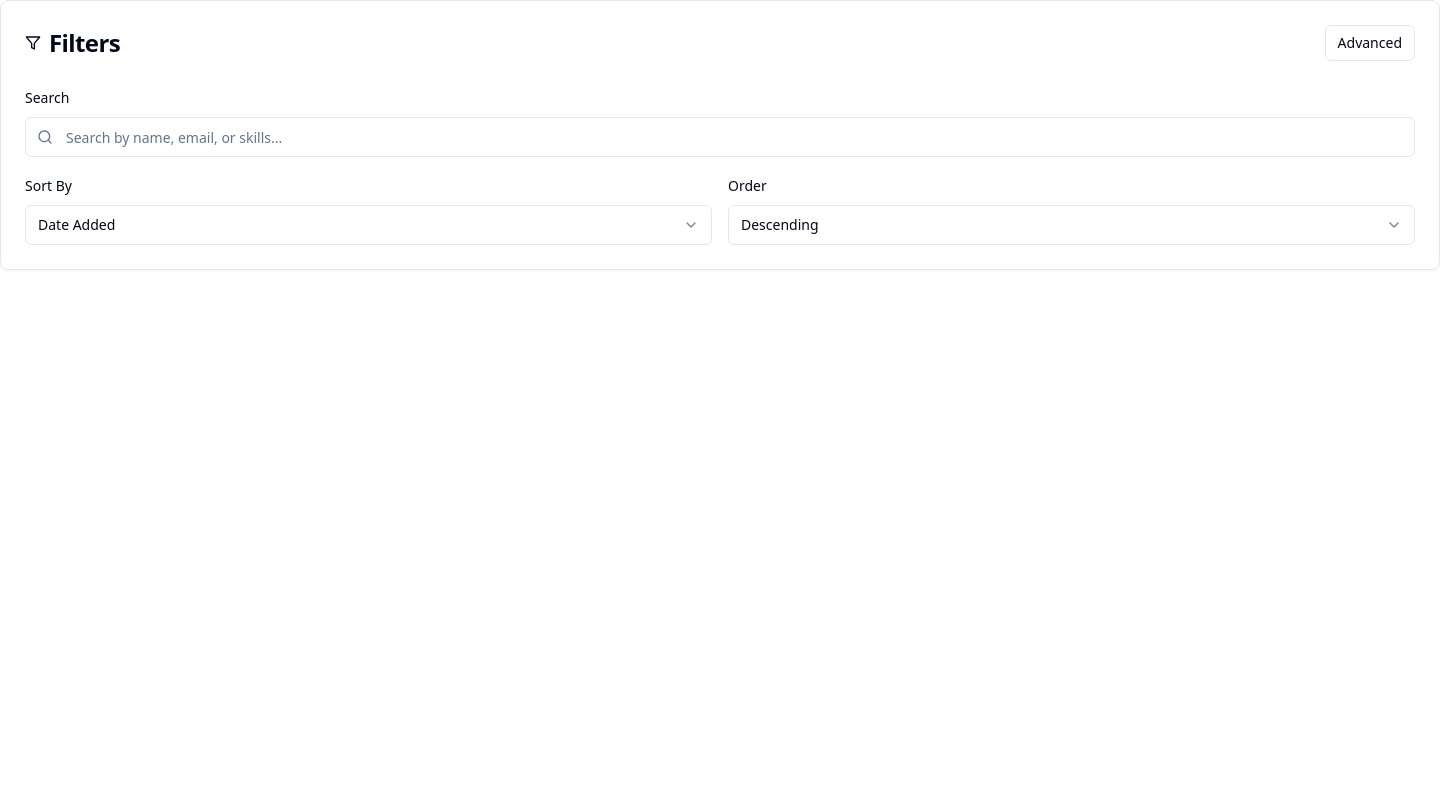
Test case: CandidateFilters › adds and removes skills
This screenshot has width=1440, height=810.
// Show advanced filters
Click the button "Advanced".
click(1370, 43)  # box 1325,25 -> 1415,61
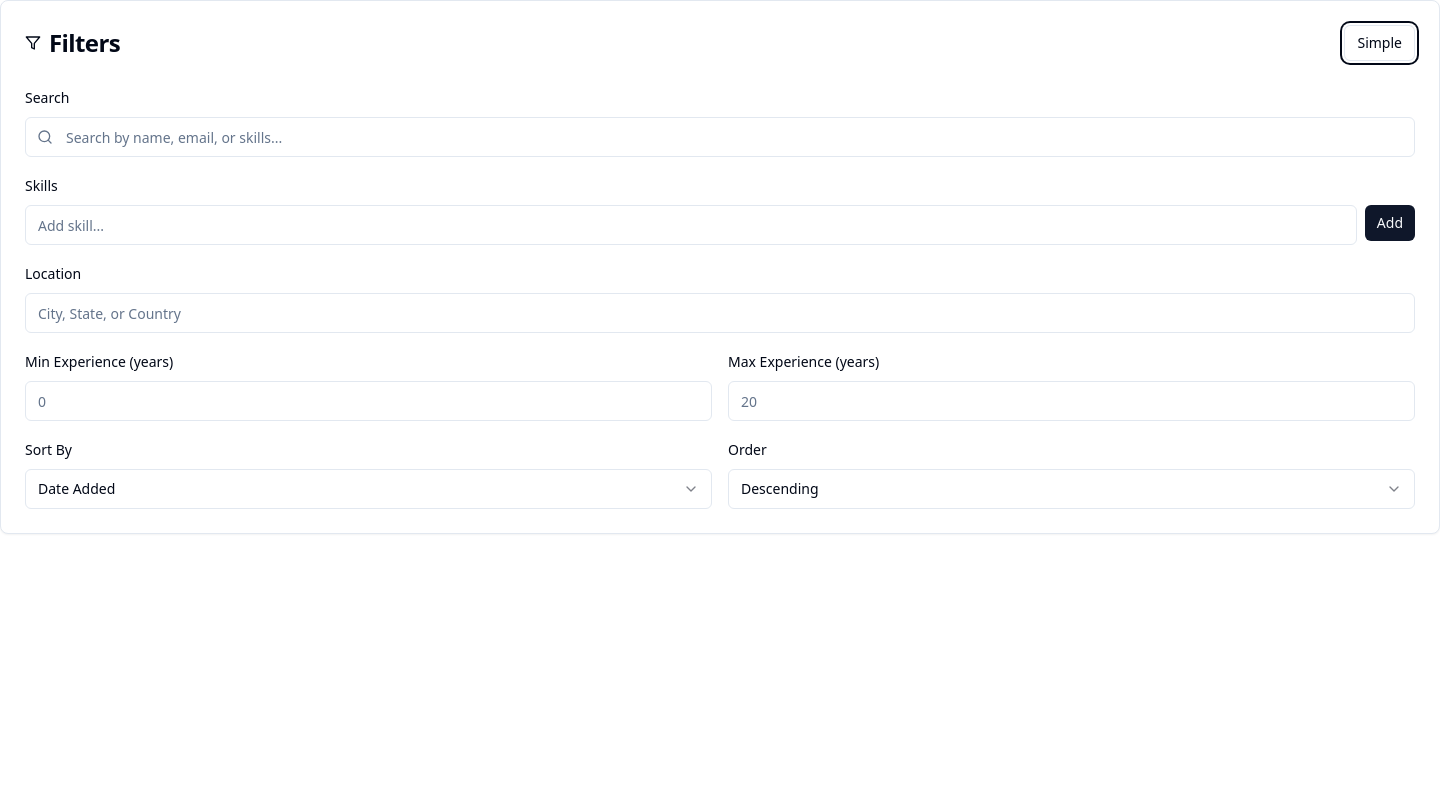
// Add a skill
Type "JavaScript" into the field with placeholder "Add skill...".
click(691, 225); type("JavaScript")  # box 25,205 -> 1357,245
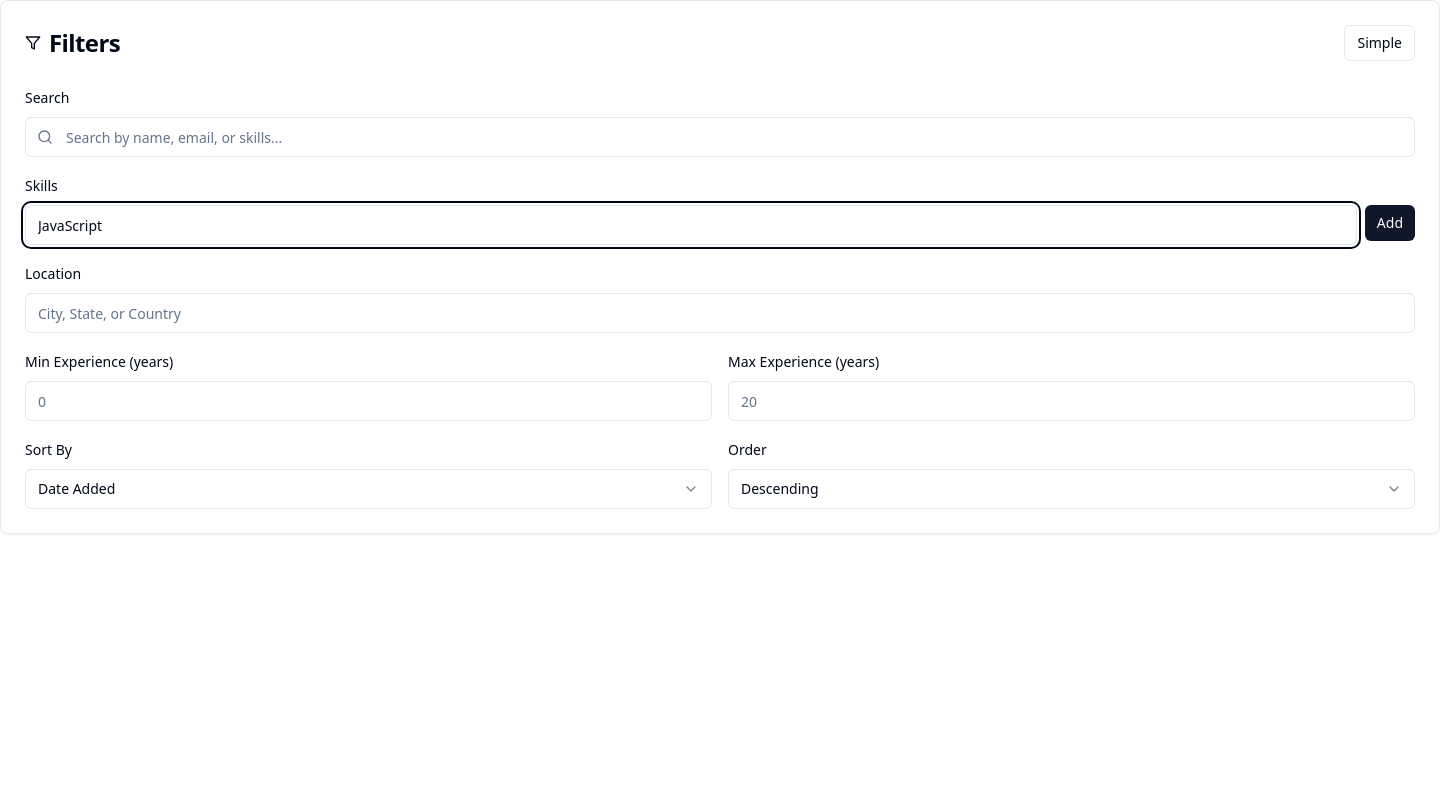
Click the button "Add".
click(1390, 223)  # box 1365,205 -> 1415,241
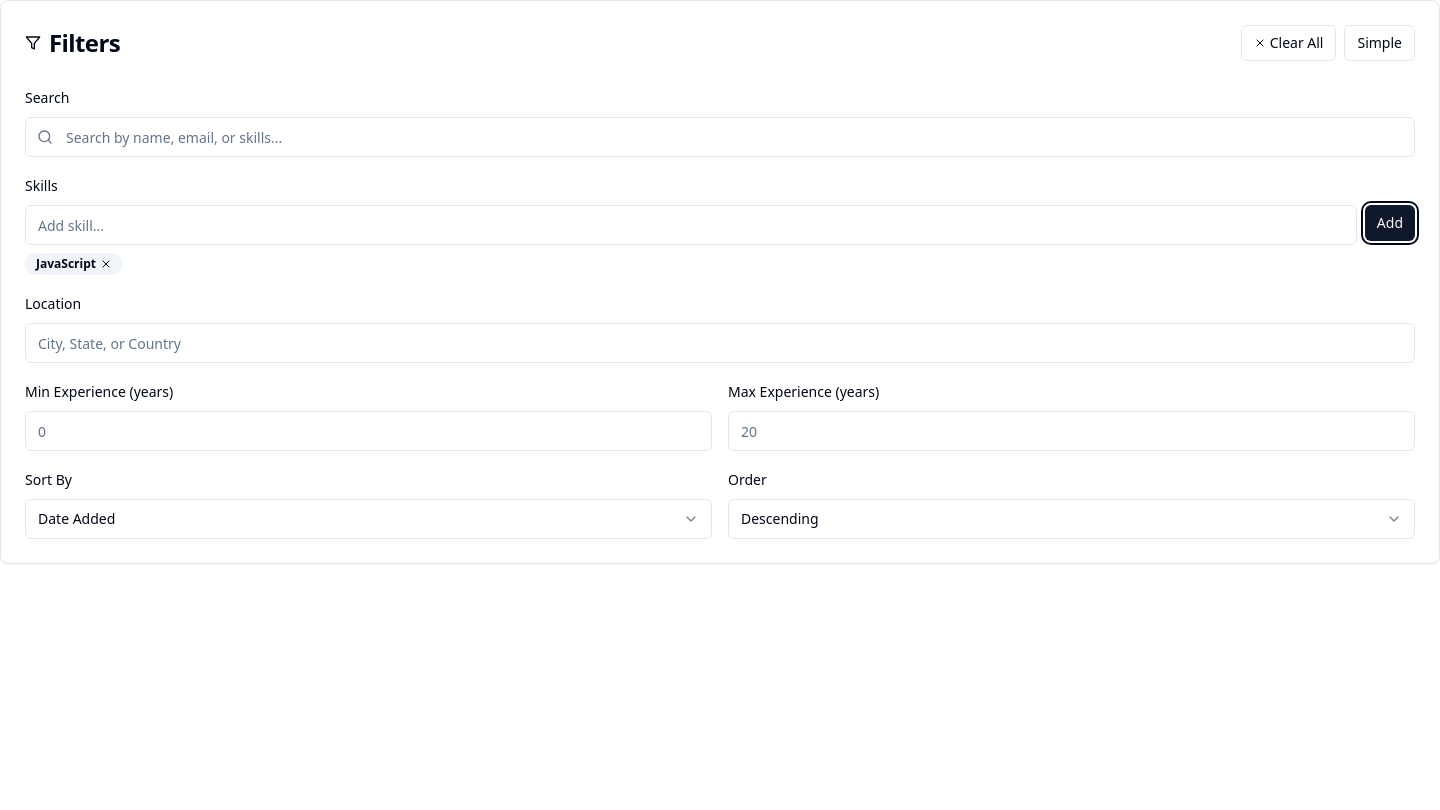
expect the text "JavaScript" is shown: met, box 25,253 -> 123,275
Click the icon next to "JavaScript".
click(106, 264)  # box 100,258 -> 112,270
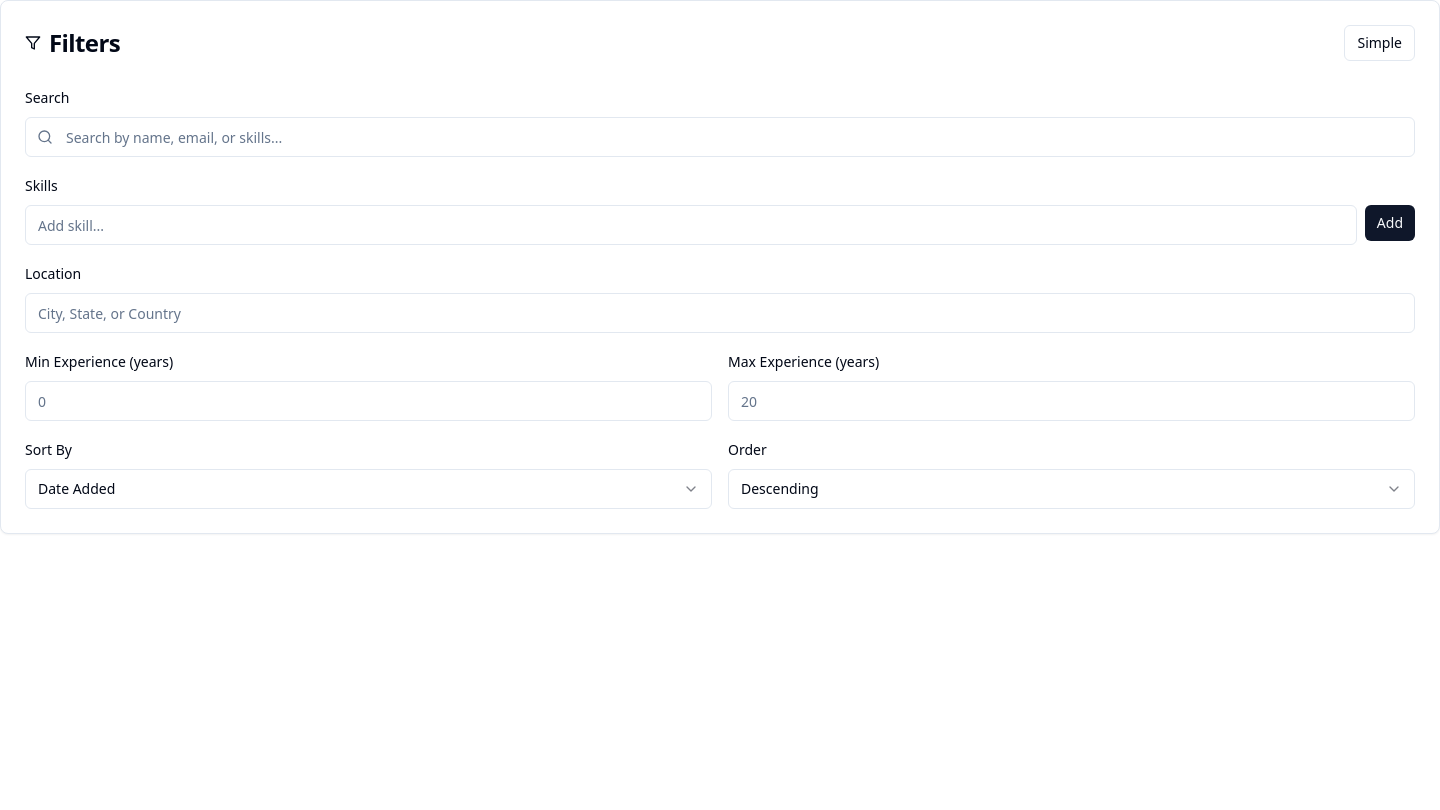
expect the text "JavaScript" is gone: met
